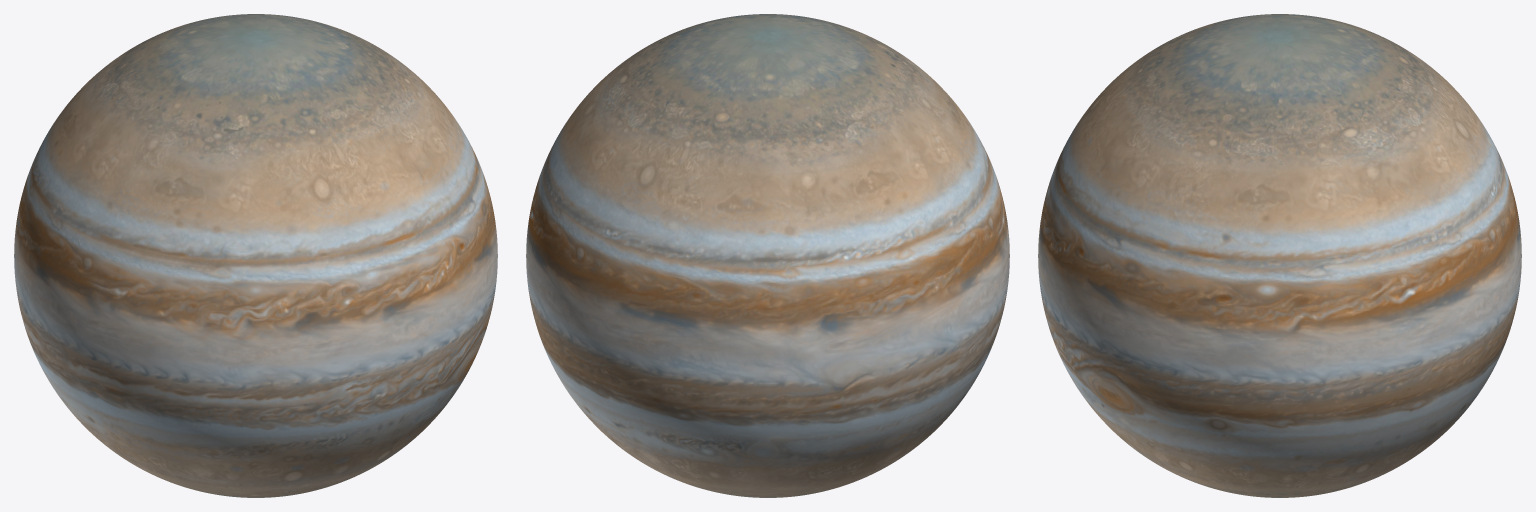
The model's file is jupiter.glb.
3 renders of one model, left to right at view 1: azimuth 30°, elevation 25°; view 2: azimuth 150°, elevation 25°; view 3: azimuth 270°, elevation 25°, orthographic.
Parts seen in each view (by area): view 1: Jupiter; view 2: Jupiter; view 3: Jupiter.
Part boxes in pixels (x1=…): Jupiter: x1=14, y1=14, x2=497, y2=497; Jupiter: x1=526, y1=14, x2=1009, y2=497; Jupiter: x1=1038, y1=14, x2=1521, y2=497.
Bounding box in the file's own units: 4.99 × 5 × 4.99.
Materials: 1 (1 with a texture image).
